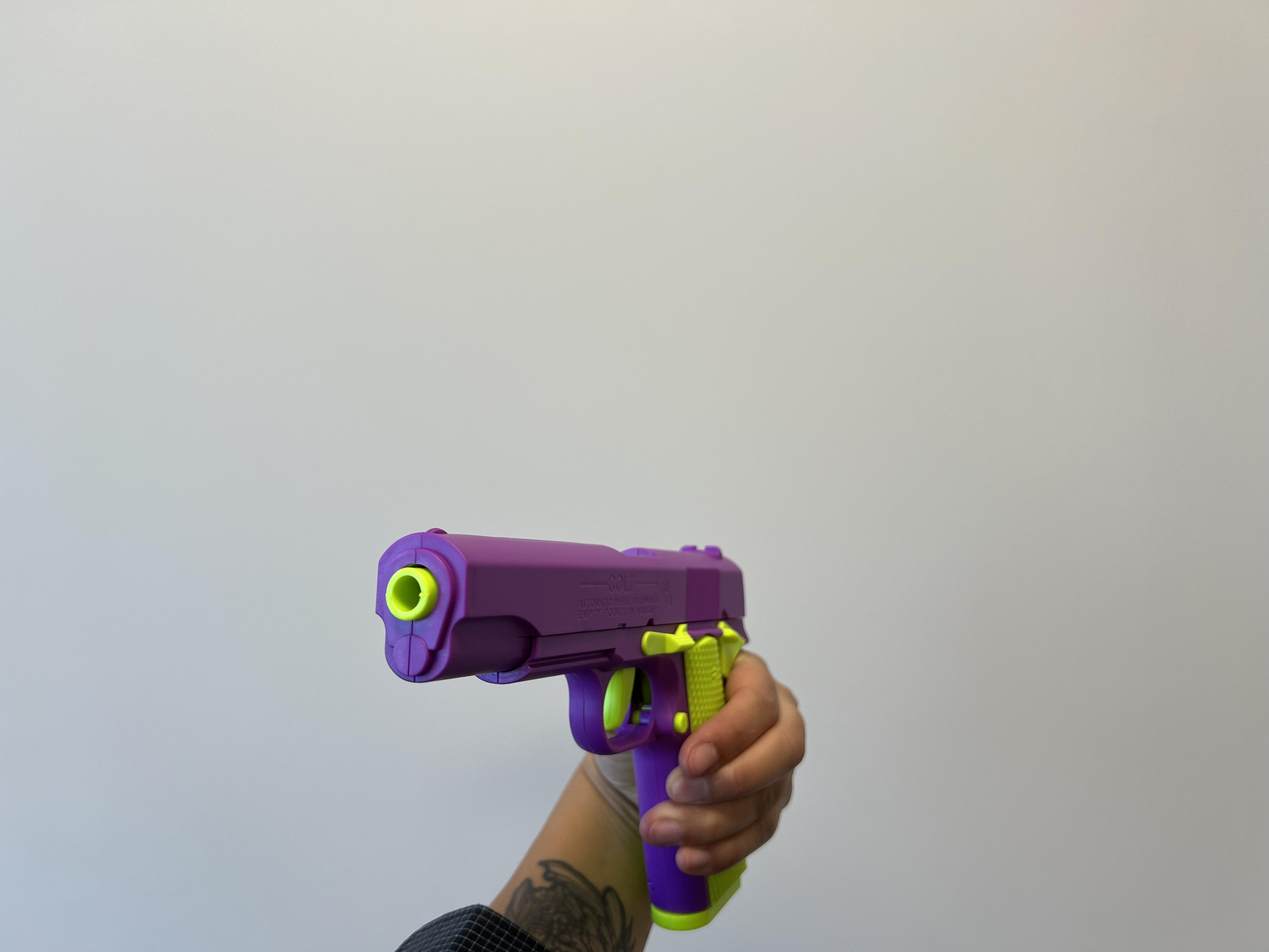Knife: (365, 513, 757, 937), (387, 658, 814, 952), (562, 641, 810, 883)
